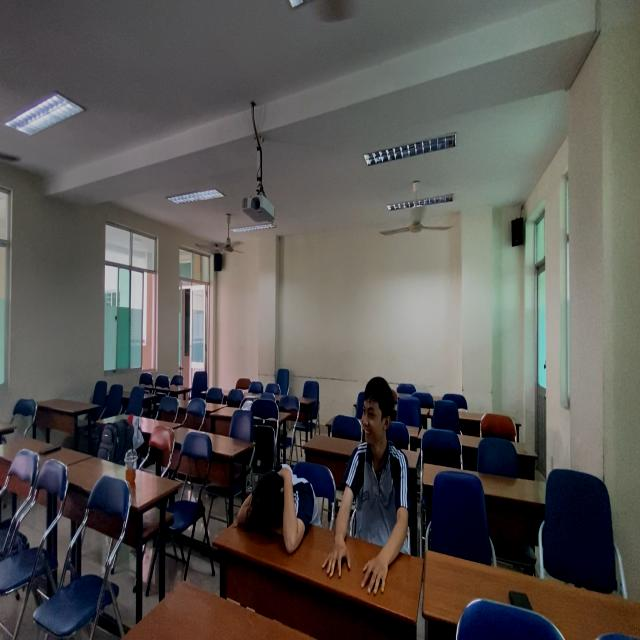sleep: (232, 460, 326, 553)
